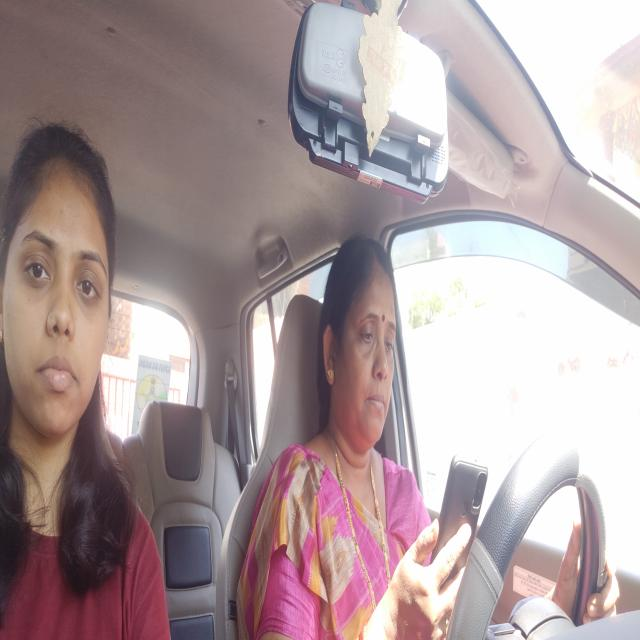mobile: (433, 452, 491, 612)
person: (6, 122, 119, 447), (322, 224, 406, 477)
